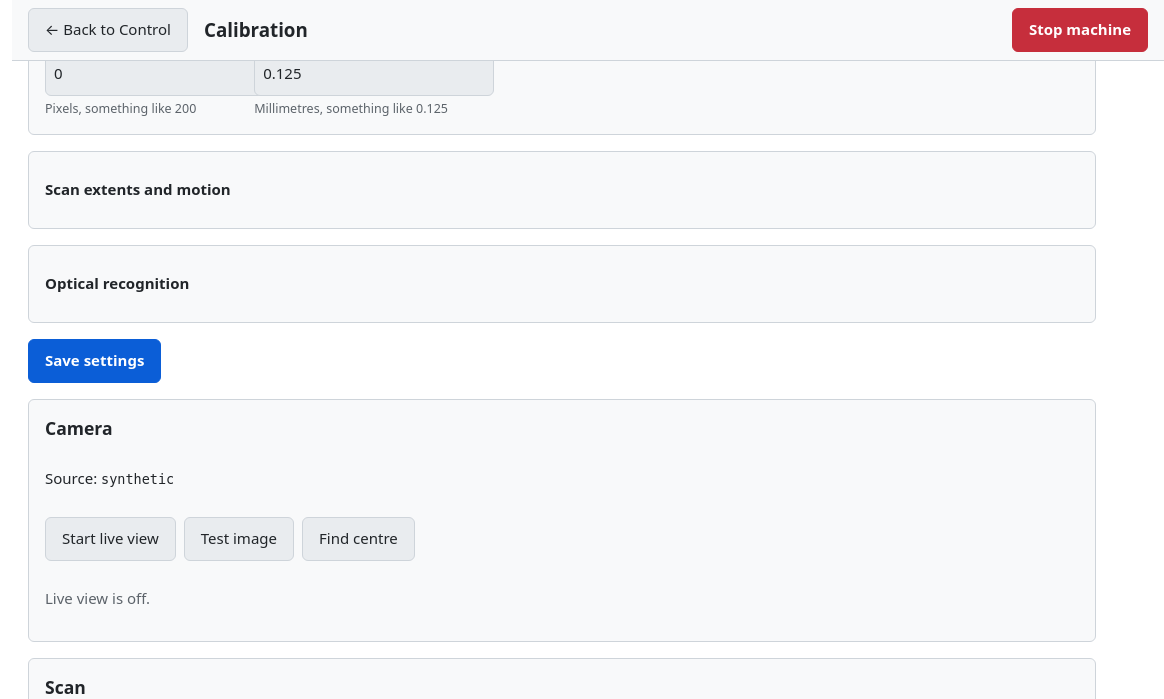
Test: optical calibration screen › shows why a save failed
(page scrolled)
Click the button "Save settings" at (95, 361), box [28,339,161,383]
(page scrolled)
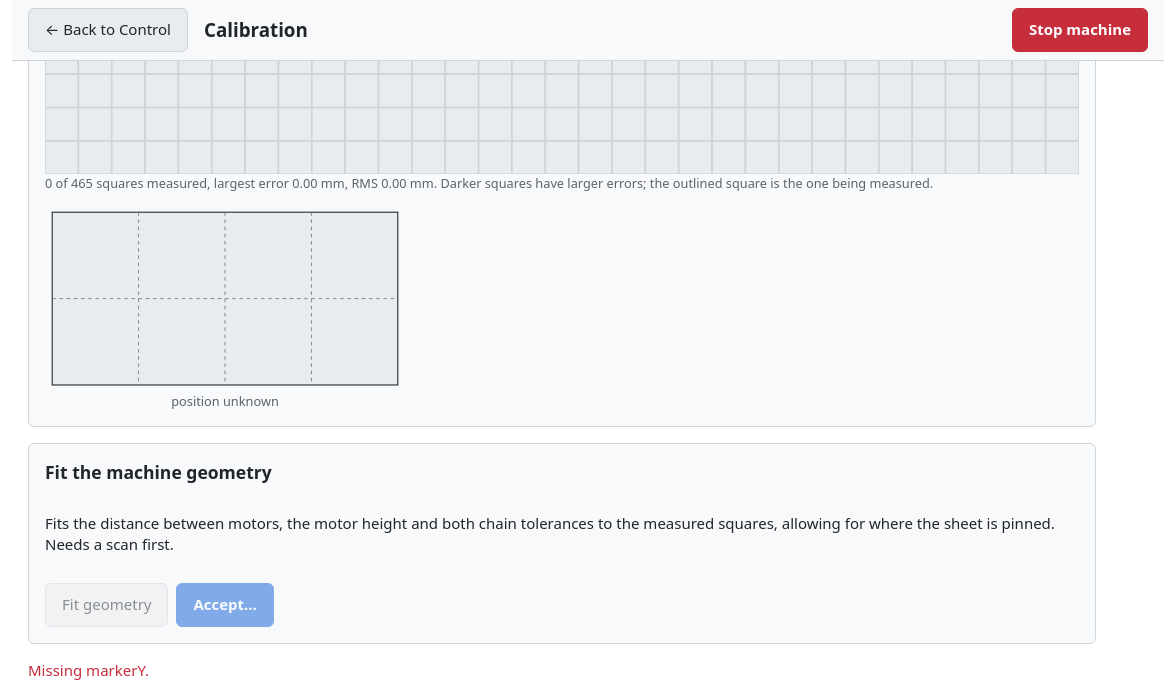
Expected: the message named "Calibration status" reads "Missing markerY.", [28,660,149,680]
